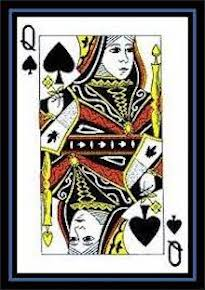QueenOfSpades: (8, 9, 195, 280)
